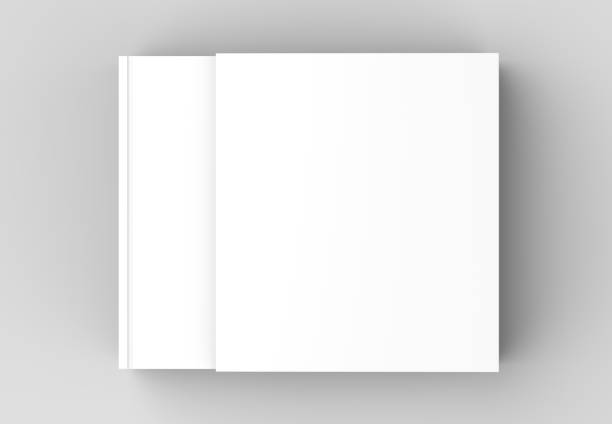dikdortgen: (117, 52, 215, 372)
kare: (214, 52, 505, 376)
